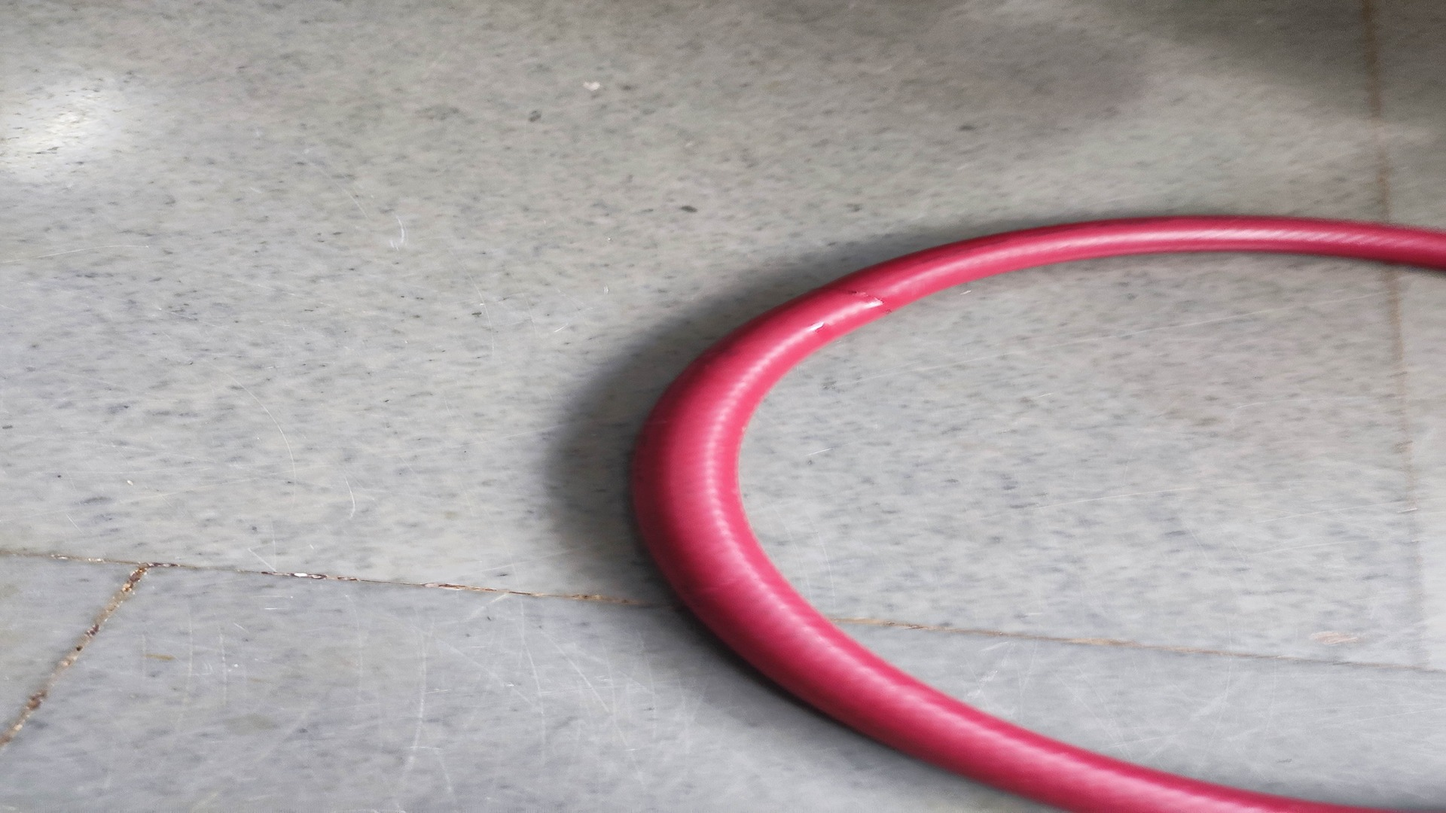Red ring: (633, 215, 1446, 812)
